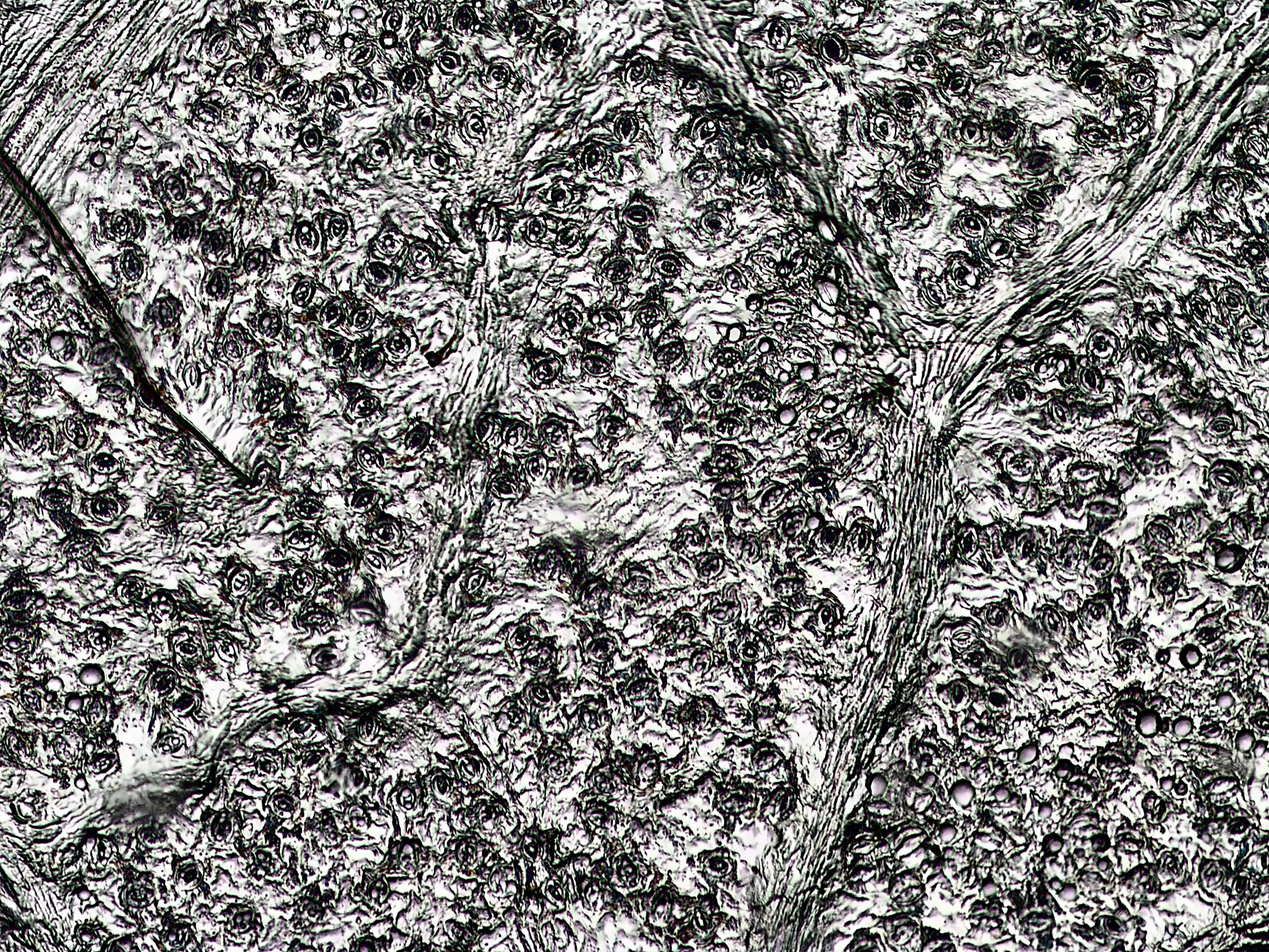stomata: (243, 848, 286, 883), (702, 444, 750, 475), (202, 805, 239, 845), (101, 207, 142, 241), (18, 422, 55, 459), (1209, 168, 1246, 204), (814, 29, 851, 65), (877, 190, 913, 226), (719, 258, 754, 295), (1016, 183, 1052, 218), (290, 220, 326, 255), (1193, 618, 1230, 652), (619, 54, 656, 88), (696, 847, 734, 880), (764, 784, 796, 823), (470, 200, 502, 239), (553, 224, 589, 258), (1205, 463, 1244, 494), (360, 260, 403, 288), (686, 113, 721, 147), (237, 163, 270, 199), (150, 293, 181, 331), (7, 794, 45, 825), (1183, 211, 1212, 251), (771, 65, 807, 97), (948, 251, 976, 292), (1137, 32, 1178, 60), (611, 852, 641, 890), (617, 201, 656, 230), (157, 920, 196, 949), (1083, 492, 1126, 518), (703, 345, 746, 371), (84, 492, 120, 523), (646, 890, 674, 929), (954, 208, 987, 241), (919, 276, 953, 308), (1076, 66, 1110, 98), (201, 227, 232, 262), (1149, 565, 1185, 595), (609, 108, 639, 144), (694, 208, 730, 238), (537, 416, 573, 446), (888, 876, 925, 905), (1122, 64, 1159, 93), (58, 534, 96, 562), (1036, 604, 1068, 637), (539, 27, 571, 60), (384, 327, 416, 360), (352, 441, 386, 472), (576, 140, 607, 174), (654, 388, 684, 423), (148, 732, 190, 757), (483, 472, 519, 501), (650, 337, 686, 366), (225, 562, 254, 598), (316, 296, 345, 332), (1063, 460, 1106, 484), (1013, 150, 1056, 174), (595, 255, 633, 282), (297, 605, 335, 632), (1064, 813, 1105, 838), (1222, 512, 1253, 545), (544, 182, 577, 213), (451, 3, 481, 37), (687, 903, 715, 939), (528, 357, 564, 385), (140, 501, 176, 529), (84, 339, 120, 367), (1244, 130, 1269, 170), (307, 644, 344, 671), (460, 566, 491, 598), (747, 127, 779, 158), (158, 171, 189, 203), (46, 331, 77, 363), (1142, 308, 1172, 341), (222, 905, 255, 935), (0, 729, 33, 759), (574, 701, 608, 730), (115, 246, 144, 280), (154, 431, 188, 460), (1063, 771, 1098, 799), (81, 693, 109, 728), (18, 683, 46, 718), (288, 494, 327, 519), (120, 881, 157, 907), (737, 164, 768, 195), (1133, 447, 1173, 471), (520, 450, 550, 482), (131, 824, 171, 848), (23, 369, 53, 401), (675, 70, 708, 99), (369, 515, 402, 544), (395, 63, 424, 96), (1113, 699, 1147, 727), (1003, 451, 1037, 479), (596, 413, 630, 441), (1138, 1, 1172, 29), (171, 862, 205, 890), (536, 545, 563, 580), (801, 469, 836, 496), (889, 89, 924, 116), (681, 161, 716, 188), (520, 212, 547, 247), (746, 746, 782, 772), (357, 345, 387, 376), (209, 632, 239, 663), (145, 666, 176, 696), (1145, 521, 1174, 553), (403, 422, 432, 454), (296, 123, 325, 155), (281, 714, 318, 739), (715, 794, 759, 815), (538, 879, 571, 907), (452, 837, 480, 870), (407, 241, 440, 269), (988, 119, 1022, 146), (764, 17, 791, 51), (283, 526, 321, 550), (484, 869, 514, 899), (586, 306, 622, 331), (82, 750, 118, 775), (1130, 868, 1159, 899), (254, 310, 282, 342), (253, 383, 285, 411), (84, 451, 121, 475), (1205, 775, 1239, 801), (890, 828, 925, 853), (269, 412, 307, 435), (1035, 353, 1065, 382), (298, 746, 327, 776), (256, 590, 287, 618), (201, 269, 229, 300), (944, 679, 971, 711), (706, 600, 742, 624), (362, 137, 394, 164), (355, 711, 382, 743), (50, 734, 77, 766), (846, 864, 879, 890), (1186, 292, 1212, 325), (814, 599, 840, 632), (736, 379, 775, 401), (932, 18, 971, 40), (580, 351, 613, 377), (349, 601, 382, 627), (321, 548, 354, 574), (87, 835, 113, 868), (650, 252, 684, 277), (1003, 378, 1032, 407), (483, 61, 512, 90), (1239, 237, 1267, 267), (426, 769, 454, 799), (323, 336, 351, 366), (0, 588, 35, 612), (456, 751, 483, 782), (585, 634, 616, 661), (507, 14, 534, 45), (844, 833, 882, 855), (1219, 285, 1245, 317), (574, 580, 606, 606), (939, 70, 971, 96), (416, 1, 442, 33), (167, 692, 199, 718), (35, 487, 71, 510), (871, 112, 896, 145), (711, 414, 745, 438), (902, 47, 936, 71), (171, 637, 205, 661), (1006, 647, 1035, 675), (757, 483, 786, 511), (461, 112, 489, 141), (324, 80, 352, 109), (289, 279, 318, 307), (252, 750, 280, 779), (412, 105, 439, 135), (324, 213, 351, 243), (115, 577, 145, 604), (669, 612, 695, 643), (564, 463, 595, 489), (220, 332, 246, 363), (170, 215, 196, 246), (973, 827, 1005, 852), (1182, 506, 1207, 538), (191, 99, 223, 124), (1111, 635, 1147, 657), (954, 527, 978, 560), (623, 676, 656, 700), (347, 488, 380, 512), (696, 550, 724, 578), (365, 875, 392, 904), (688, 648, 717, 675), (679, 522, 708, 549), (349, 304, 376, 333), (1095, 750, 1129, 773), (346, 395, 380, 418), (240, 247, 266, 277), (903, 161, 934, 186), (23, 290, 54, 315), (583, 808, 618, 830), (1245, 586, 1266, 622), (517, 834, 544, 862), (708, 480, 744, 501), (149, 592, 177, 619), (848, 524, 874, 553), (1083, 18, 1112, 44), (503, 419, 529, 448), (343, 766, 369, 795), (1117, 830, 1147, 855), (814, 275, 839, 305), (473, 412, 498, 442), (1014, 533, 1038, 564), (1004, 215, 1035, 239), (247, 461, 271, 492), (433, 50, 464, 74), (632, 303, 664, 326), (556, 305, 583, 332), (426, 146, 453, 173), (1159, 853, 1187, 879), (205, 32, 231, 60), (133, 382, 159, 410), (393, 785, 418, 814), (346, 41, 375, 66), (291, 566, 315, 596), (233, 17, 263, 41), (296, 898, 326, 922), (1210, 654, 1241, 677), (635, 755, 658, 786), (762, 298, 799, 317), (1080, 599, 1107, 625), (781, 382, 808, 408), (1121, 109, 1147, 136), (815, 215, 841, 242), (279, 79, 306, 105), (1079, 365, 1104, 393), (1044, 400, 1072, 425), (763, 605, 788, 633), (1076, 124, 1111, 144), (177, 360, 202, 388), (271, 793, 299, 818), (83, 626, 111, 651), (781, 509, 805, 538), (0, 633, 33, 654), (504, 625, 534, 648), (380, 6, 406, 32), (588, 772, 616, 796), (733, 639, 761, 663), (740, 536, 763, 565), (72, 924, 101, 947), (11, 336, 40, 359), (982, 689, 1012, 711), (1128, 340, 1150, 370), (1200, 861, 1225, 887), (374, 230, 400, 255), (1206, 414, 1233, 438), (62, 417, 86, 444), (819, 427, 851, 447), (1088, 331, 1112, 357), (1135, 406, 1161, 430), (1052, 47, 1078, 71), (527, 683, 554, 706), (955, 119, 982, 142), (1098, 915, 1129, 935), (683, 702, 705, 730), (1008, 584, 1029, 613), (865, 796, 894, 817), (249, 55, 270, 84), (819, 525, 838, 557), (890, 921, 915, 945), (500, 704, 526, 727), (355, 78, 378, 104), (362, 551, 390, 572), (1019, 913, 1052, 930), (95, 381, 126, 399), (1069, 922, 1098, 941), (948, 628, 977, 647), (699, 384, 728, 403), (788, 248, 808, 275), (981, 39, 1006, 60), (1089, 555, 1115, 575), (1230, 875, 1252, 898), (989, 238, 1012, 260), (1149, 800, 1167, 828), (1027, 31, 1046, 57), (1226, 816, 1251, 834), (878, 857, 902, 873), (1171, 780, 1189, 800), (1200, 722, 1221, 735)
